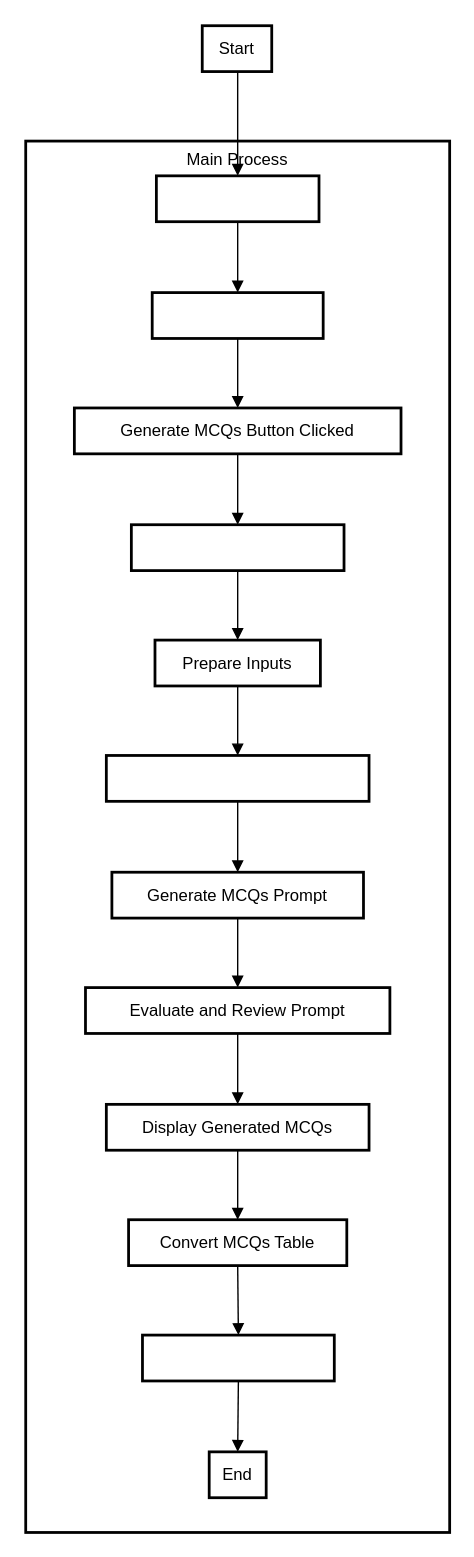
Image size: 474x1557. Some labels were removed from this diagram. The shapes that lost their labels are listed below. From the top down, each one's box as (x1, y1, x2, y2) in pixels, then its label:
(154, 174, 320, 222): User Interface
(150, 291, 324, 339): Validate Inputs
(129, 523, 345, 571): Read Uploaded File
(104, 753, 370, 802): Use OpenAI & Langchain
(140, 1333, 335, 1382): Show MCQs Table
